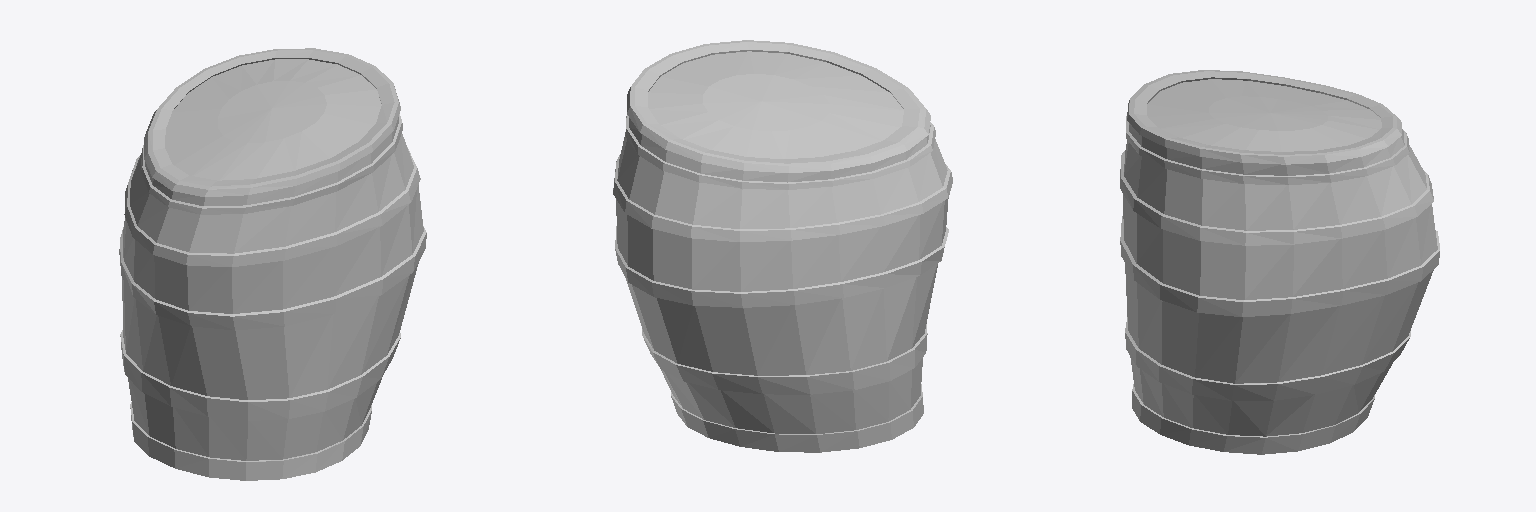
Rendered from Warped Barrel.obj.
The picture shows the model from 3 angles: view 1: azimuth 30°, elevation 25°; view 2: azimuth 150°, elevation 25°; view 3: azimuth 270°, elevation 25°; orthographic projection.
Parts seen in each view (by area): view 1: Warped_Barrel; view 2: Warped_Barrel; view 3: Warped_Barrel.
Boxes of the visible parts, x1=… form: Warped_Barrel: x1=119, y1=48, x2=426, y2=480; Warped_Barrel: x1=613, y1=40, x2=952, y2=452; Warped_Barrel: x1=1120, y1=70, x2=1439, y2=454.
Size of the model in its own units: 96.99 by 104 by 94.92.